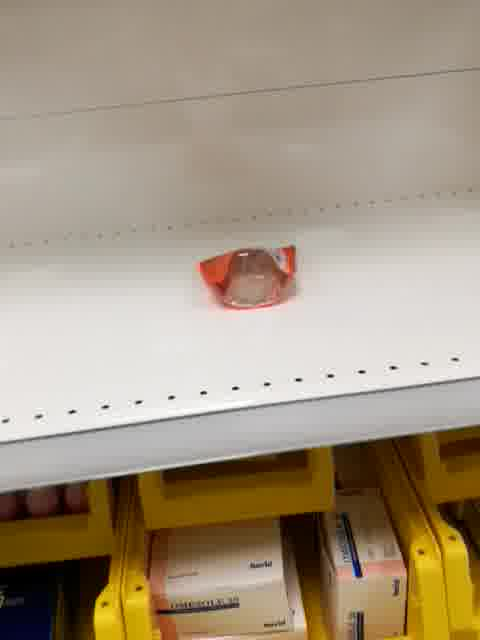whitechia: (196, 245, 302, 311)
